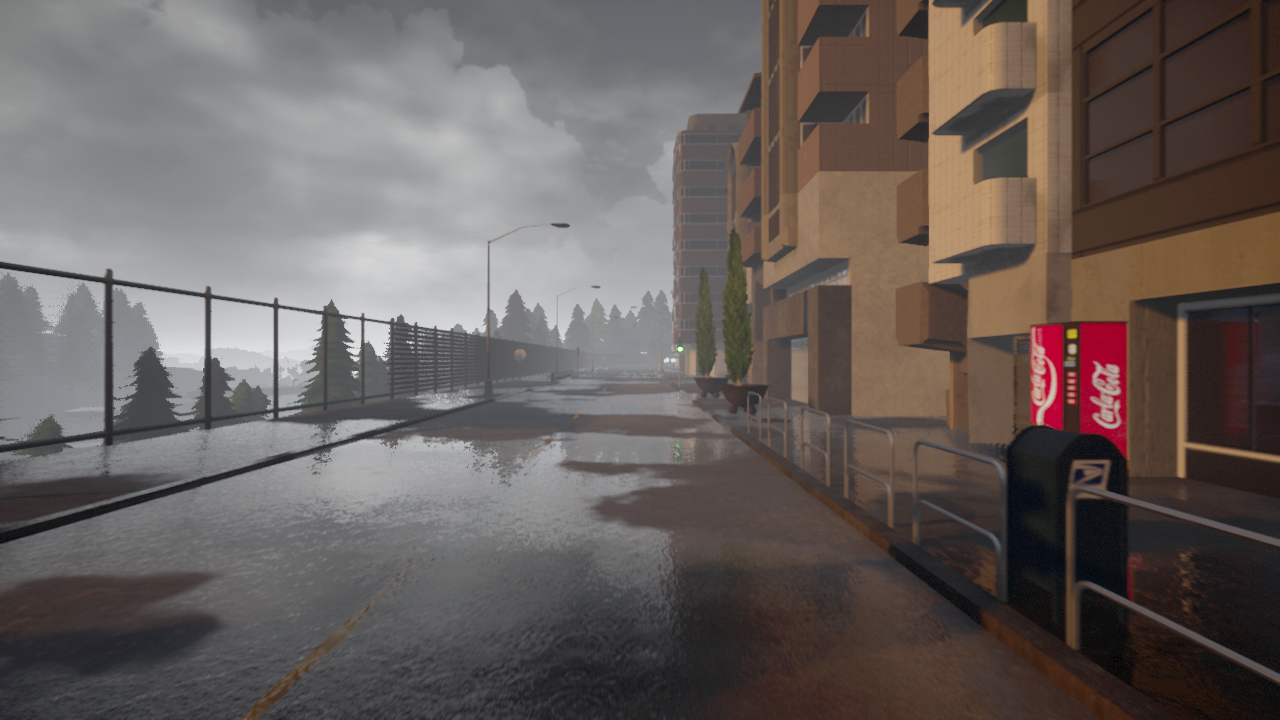green: (676, 337, 683, 353)
